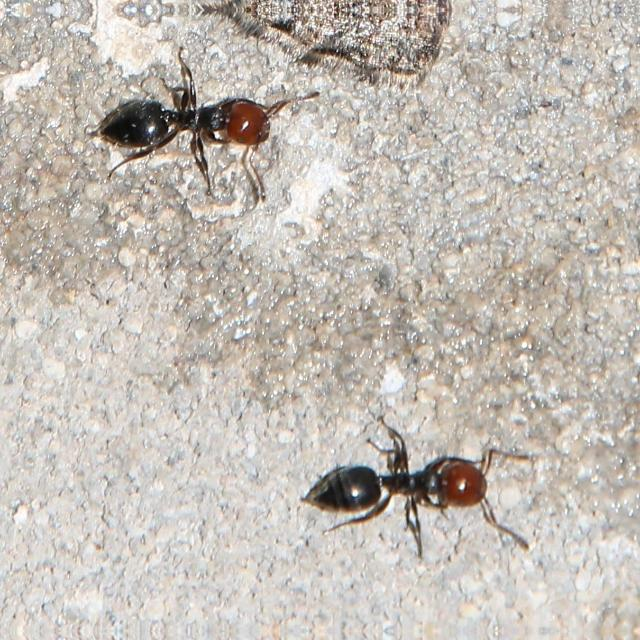Crematogaster: (102, 69, 268, 197), (299, 431, 497, 535)
